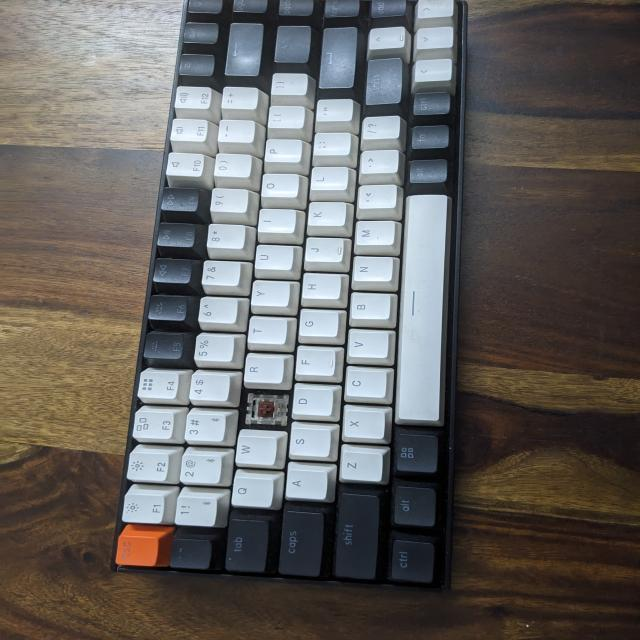key-switch: (249, 399, 289, 424)
